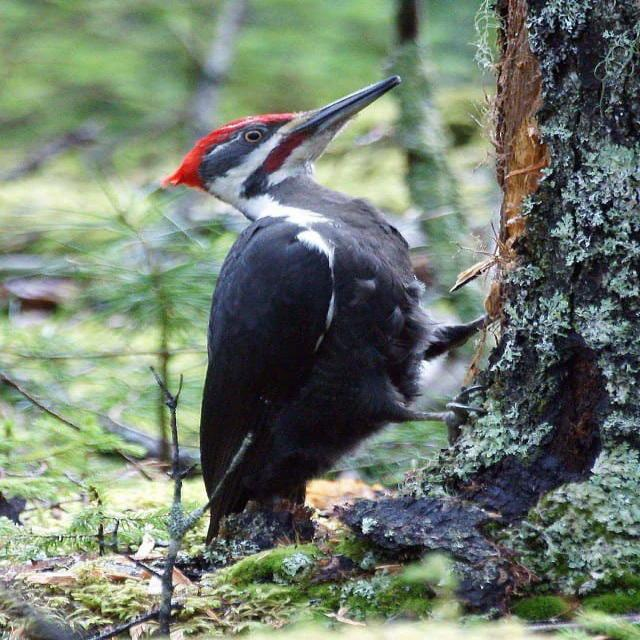Woodpecker: (174, 62, 501, 572)
